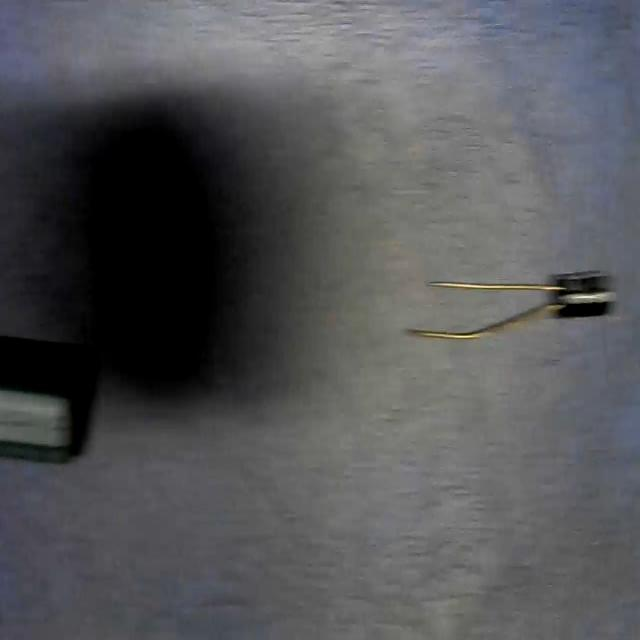capacitor: (407, 264, 615, 348)
